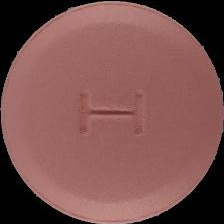65862-571: (0, 0, 224, 224)
